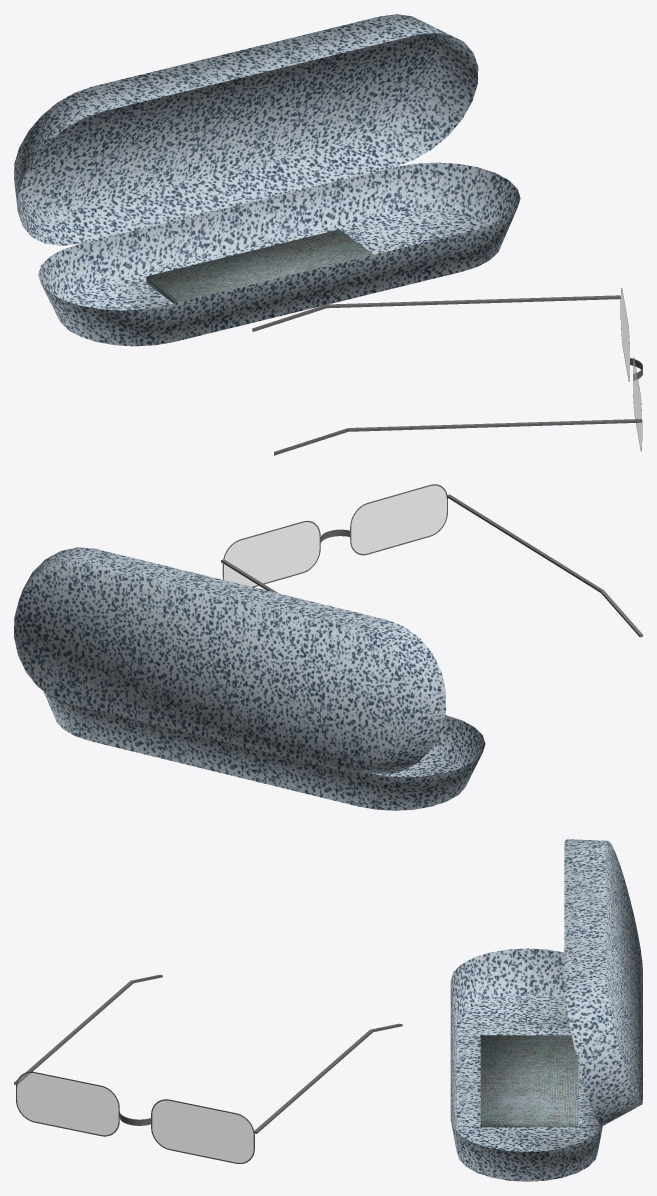
The model's file is EyeGlassesWithCase.dae.
The picture shows the model from 3 angles, top to bottom: view 1: azimuth 30°, elevation 25°; view 2: azimuth 150°, elevation 25°; view 3: azimuth 270°, elevation 25°; orthographic projection. The views are drawn at different scales.
Visible parts, largest first — view 1: Component_6 (×2), Component_3 (×4); view 2: Component_6, Component_1 (×3), Component_3; view 3: Component_6 (×2), Component_1 (×3), Component_3 (×2).
Boxes of the visible parts, bbox=[...] form: Component_6 (×2): bbox=[14, 14, 520, 346]; Component_3 (×4): bbox=[252, 295, 642, 455]; Component_6: bbox=[14, 547, 485, 810]; Component_1 (×3): bbox=[222, 484, 447, 587]; Component_3: bbox=[446, 494, 642, 637]; Component_6 (×2): bbox=[450, 839, 642, 1181]; Component_1 (×3): bbox=[16, 1071, 254, 1163]; Component_3 (×2): bbox=[14, 974, 402, 1133].
Bounding box in the file's own units: 6.68 × 8.73 × 2.71.
